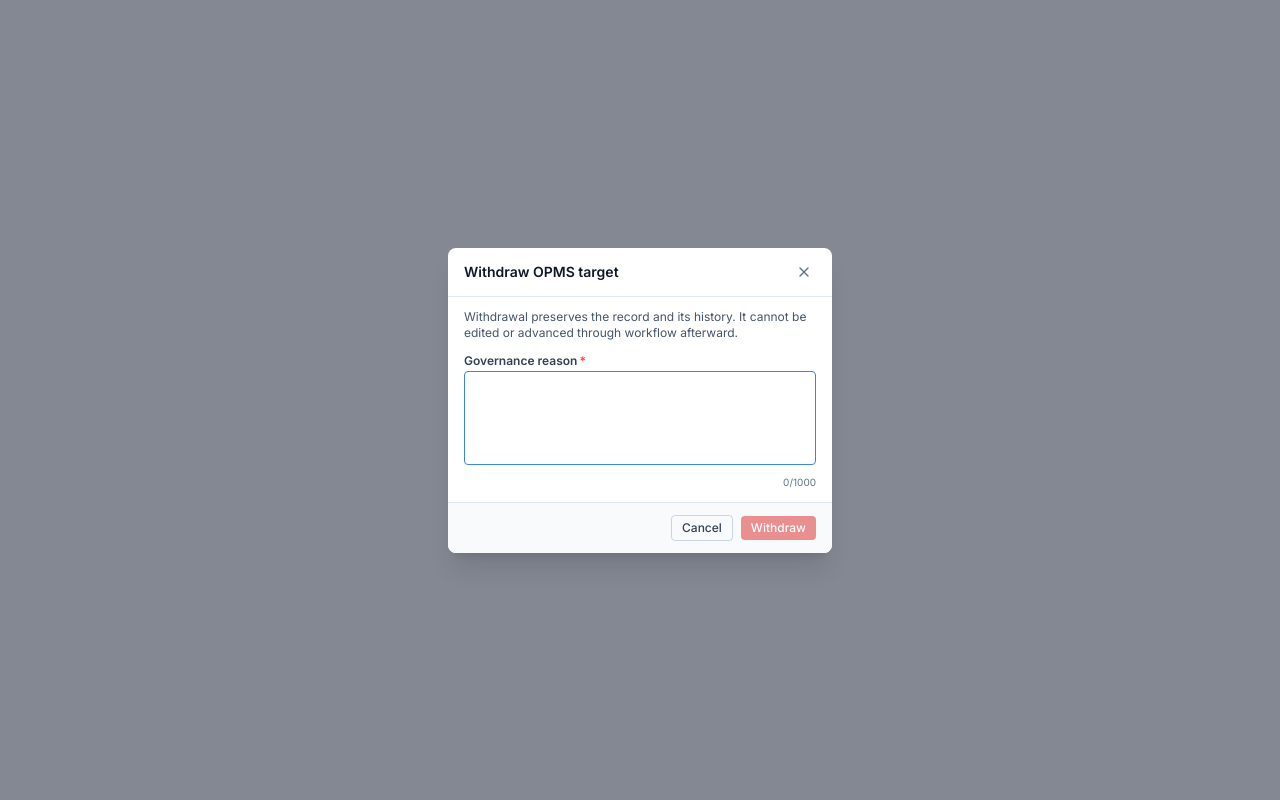
Test: GovernedWithdrawalDialog › requires a reason and submits the normalized governance reason
Later steps or results of the test are not shown.
Expected: the button "Withdraw" is disabled, [741,516,816,540]
In the text box labelled "Governance reason*": (640, 418) [464,370,816,464], type "  Superseded by approved plan  "
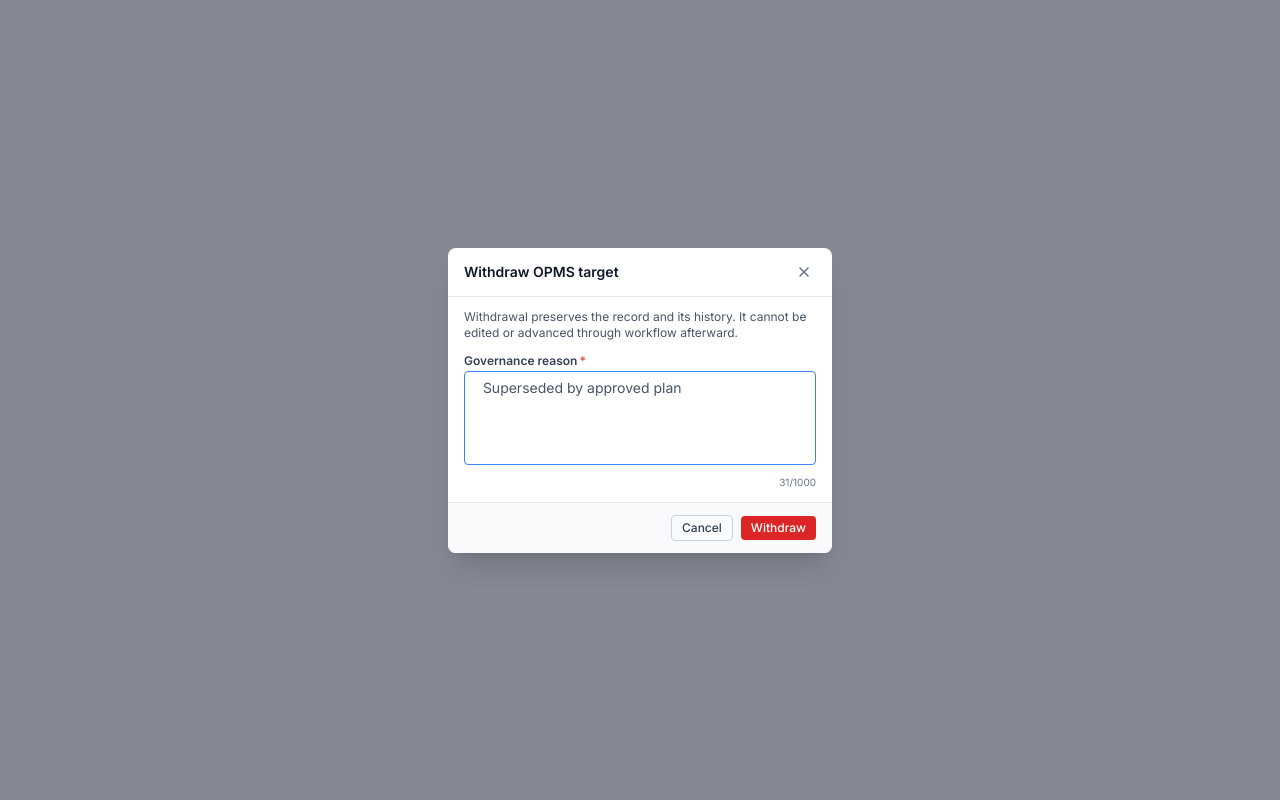
Expected: the button "Withdraw" is enabled, [741,516,816,540]
